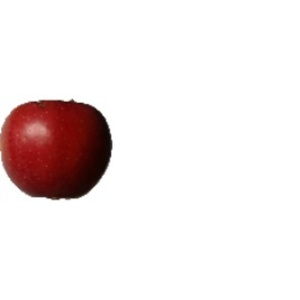maçã braeburn: (1, 92, 117, 209)
